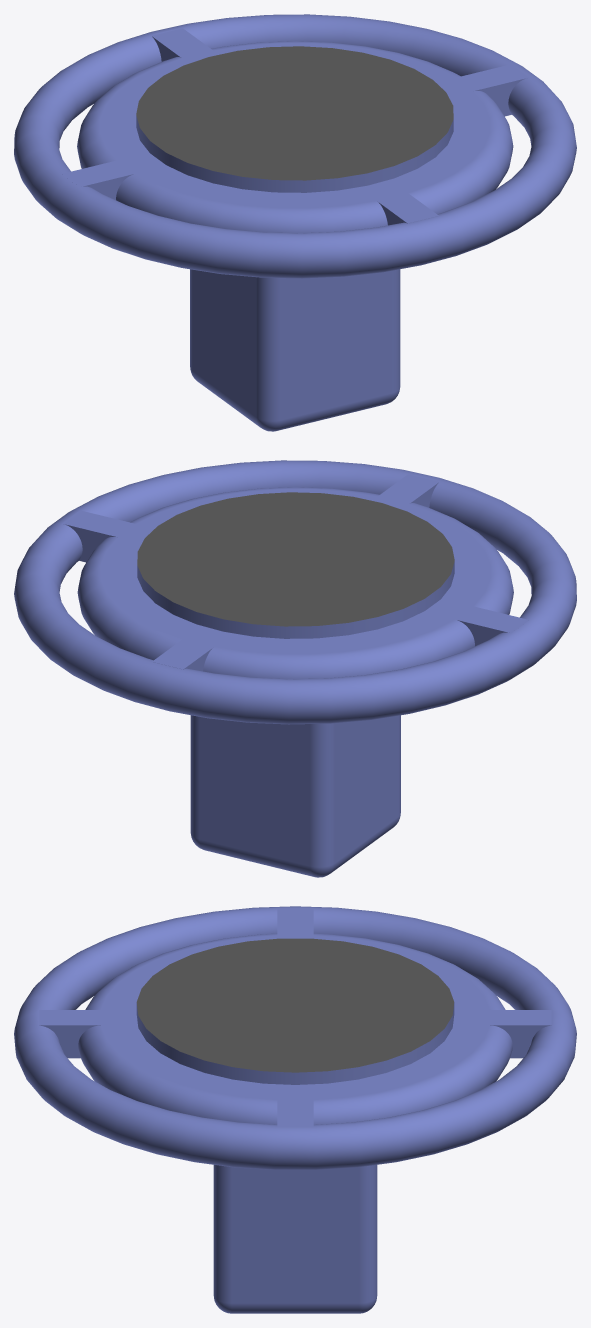
The model's file is blue_object.dae.
3 renders of one model, top to bottom at view 1: azimuth 30°, elevation 25°; view 2: azimuth 150°, elevation 25°; view 3: azimuth 270°, elevation 25°, orthographic.
Visible parts, largest first — view 1: objects_all v3.003; view 2: objects_all v3.003; view 3: objects_all v3.003.
Boxes of the visible parts, box(x1,y1,x2,y2) form: objects_all v3.003: box(14, 14, 576, 431); objects_all v3.003: box(14, 460, 576, 877); objects_all v3.003: box(14, 906, 576, 1313).
Size of the model in its own units: 0.0619 by 0.062 by 0.034.
